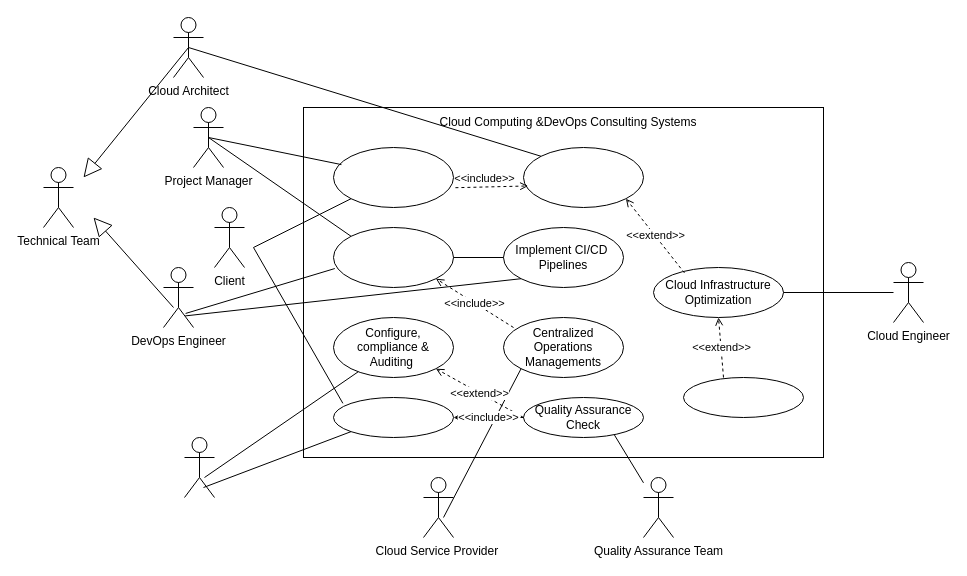
Some shapes in this 967 by 576 pixel diagram are drawn without their labels. The shapes that lost their labels are listed below. From the top down, each one's centre as x and y in pixels, then its label:
At (393,177): "Cloud & DevOps Consultation".
At (583,177): "Design Cloud Architecture".
At (393,257): "Cloud Infrastructure Setup".
At (393,417): "Training & Supports".
At (743,397): "Monitoring & Observability".
At (199,467): "Support Team".
